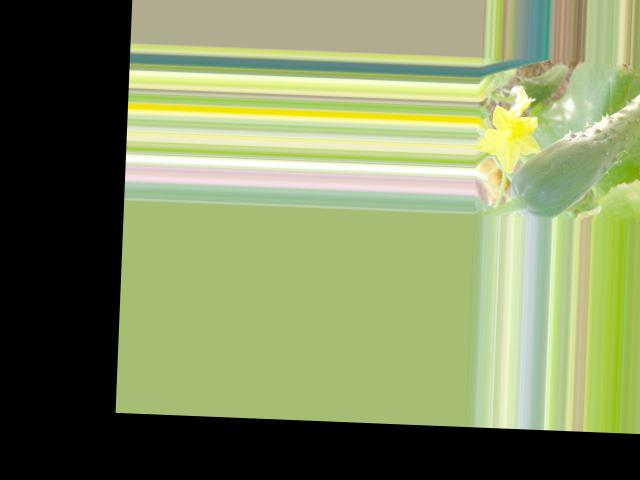cucumber: (509, 73, 640, 223)
